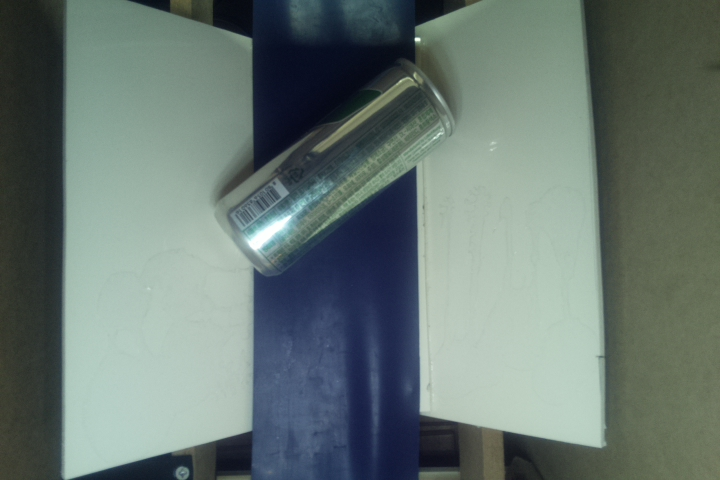can: (213, 57, 457, 278)
